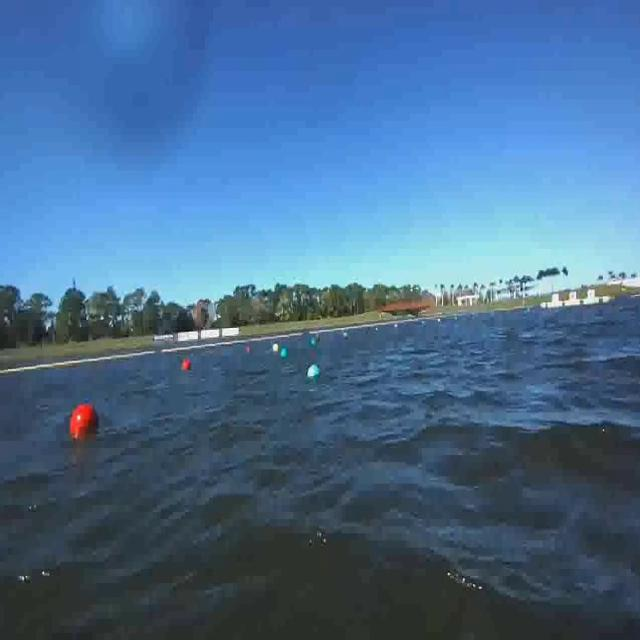green-buoy: (309, 362, 321, 380), (278, 344, 290, 361)
red-buoy: (70, 403, 101, 442), (182, 358, 191, 371)
